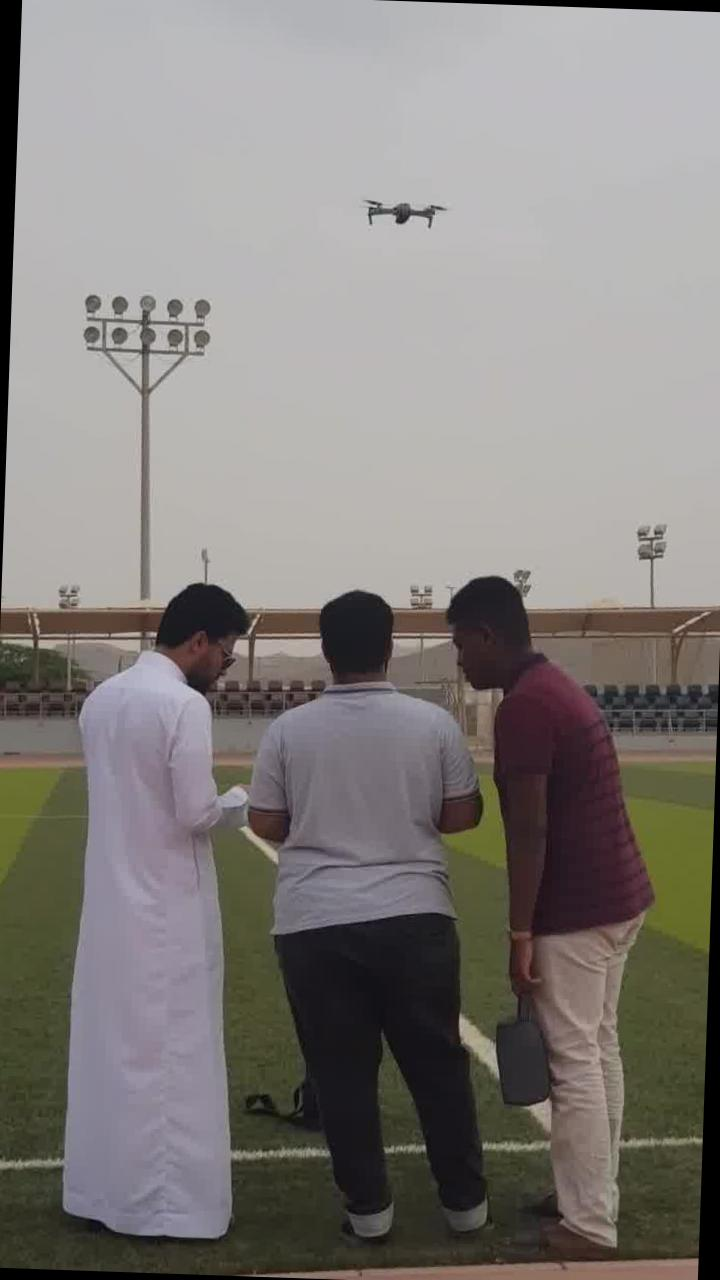drone: (350, 190, 448, 232)
